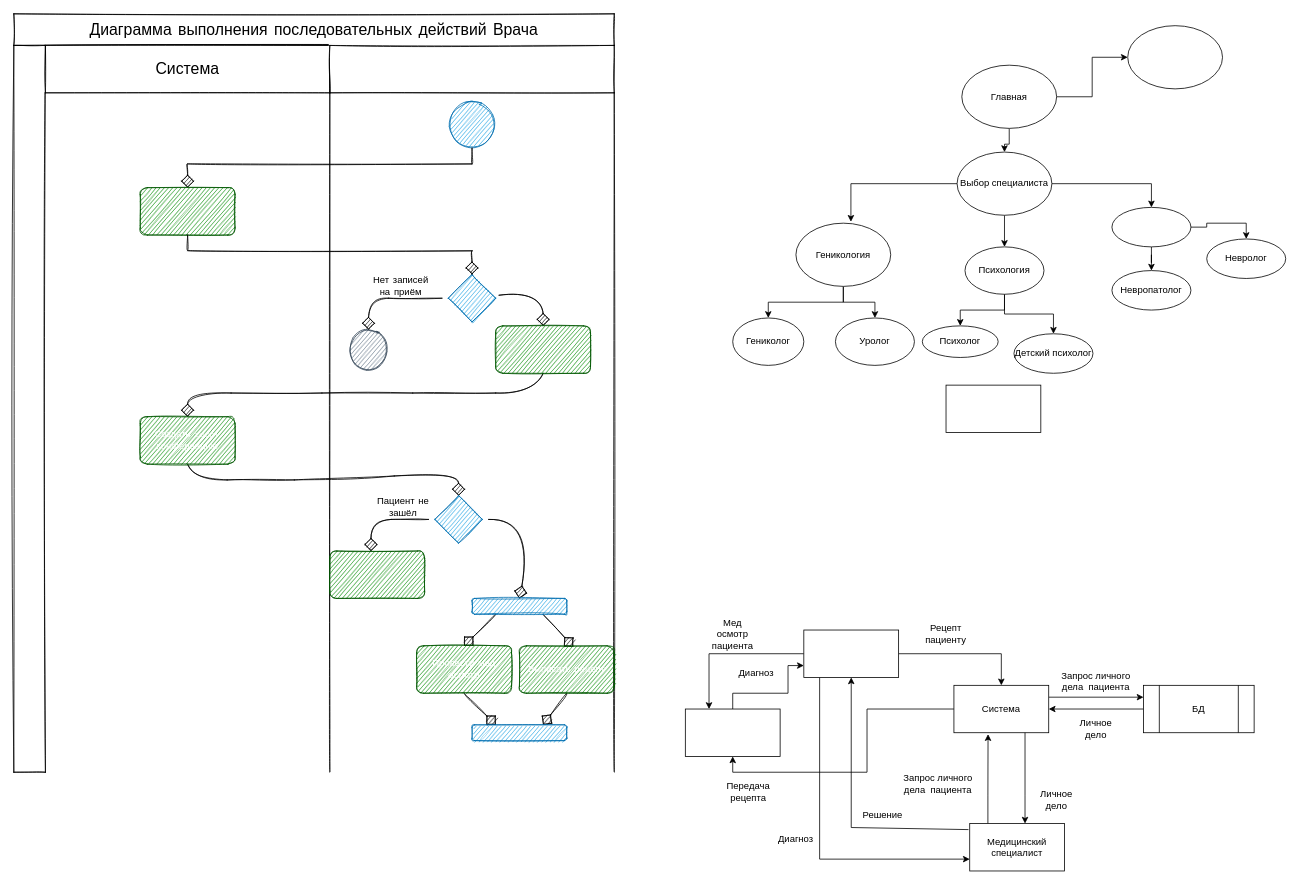
Some shapes in this 1300 by 885 pixel diagram are drawn without their labels. Each missing label, with the centre of its shape:
База пациентов: the point at 1175,57
Врач: the point at 471,69
Выбрать пациента: the point at 543,349
Вывести список пациентов на приём: the point at 187,211
Мед брат: the point at 851,653
Неврология: the point at 1151,227
Пациент: the point at 732,732
Перенести приём: the point at 377,574
Предоставление мед услуг: the point at 993,408
